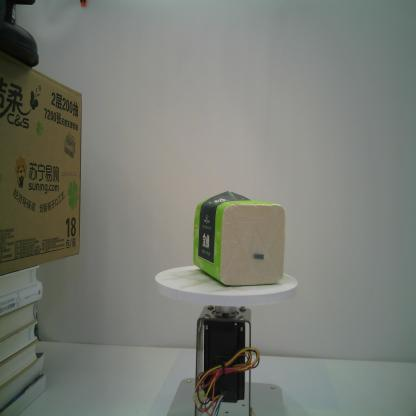Tissue: (189, 187, 288, 288)
